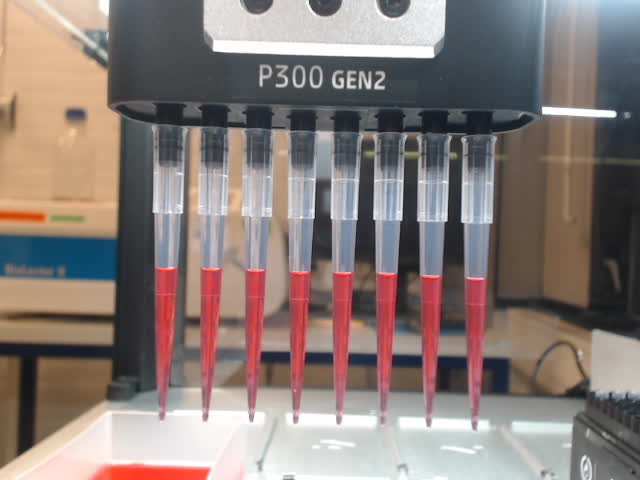Liquid: (461, 274, 494, 432), (415, 271, 447, 431), (284, 268, 316, 426), (152, 262, 183, 422), (329, 269, 359, 427), (197, 264, 226, 426), (373, 269, 402, 430), (240, 265, 269, 424)
Tip: (149, 122, 191, 423), (459, 133, 500, 432), (413, 133, 454, 430), (370, 130, 410, 430), (237, 127, 276, 425), (327, 129, 366, 426), (282, 127, 319, 426), (197, 124, 231, 425)
